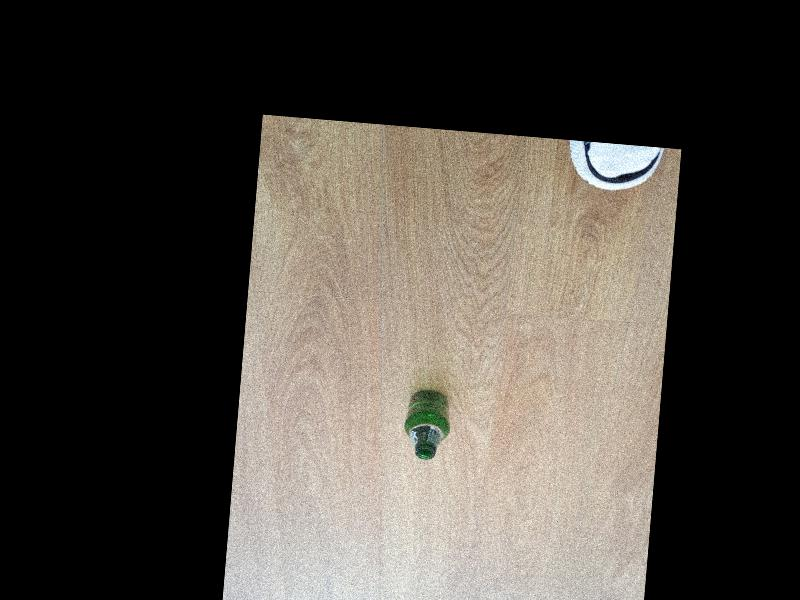Beer: (403, 387, 456, 461)
